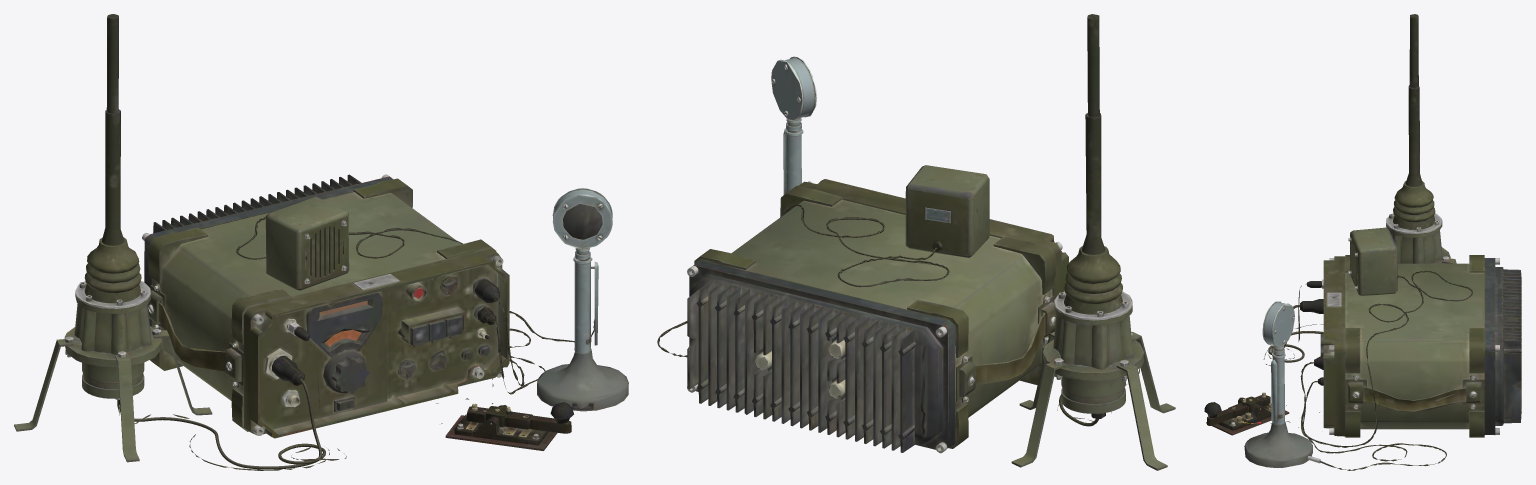
Rendered from vintage_radio_transceiver_lod1.glb.
The picture shows the model from 3 angles, left to right: view 1: azimuth 30°, elevation 25°; view 2: azimuth 150°, elevation 25°; view 3: azimuth 270°, elevation 25°; orthographic projection. The views are drawn at different scales.
Parts seen in each view (by area): view 1: vintage_radio_transceiver, vintage_radio_transceiver_cable; view 2: vintage_radio_transceiver, vintage_radio_transceiver_cable; view 3: vintage_radio_transceiver, vintage_radio_transceiver_cable.
Boxes of the visible parts, bbox=[...] form: vintage_radio_transceiver: bbox=[142, 174, 509, 438]; vintage_radio_transceiver_cable: bbox=[14, 14, 628, 470]; vintage_radio_transceiver: bbox=[687, 179, 1068, 453]; vintage_radio_transceiver_cable: bbox=[657, 14, 1175, 470]; vintage_radio_transceiver: bbox=[1320, 255, 1521, 437]; vintage_radio_transceiver_cable: bbox=[1204, 14, 1472, 470].
Bounding box in the file's own units: 0.574 × 0.4344 × 0.4127.
2 materials, 2 textured.
